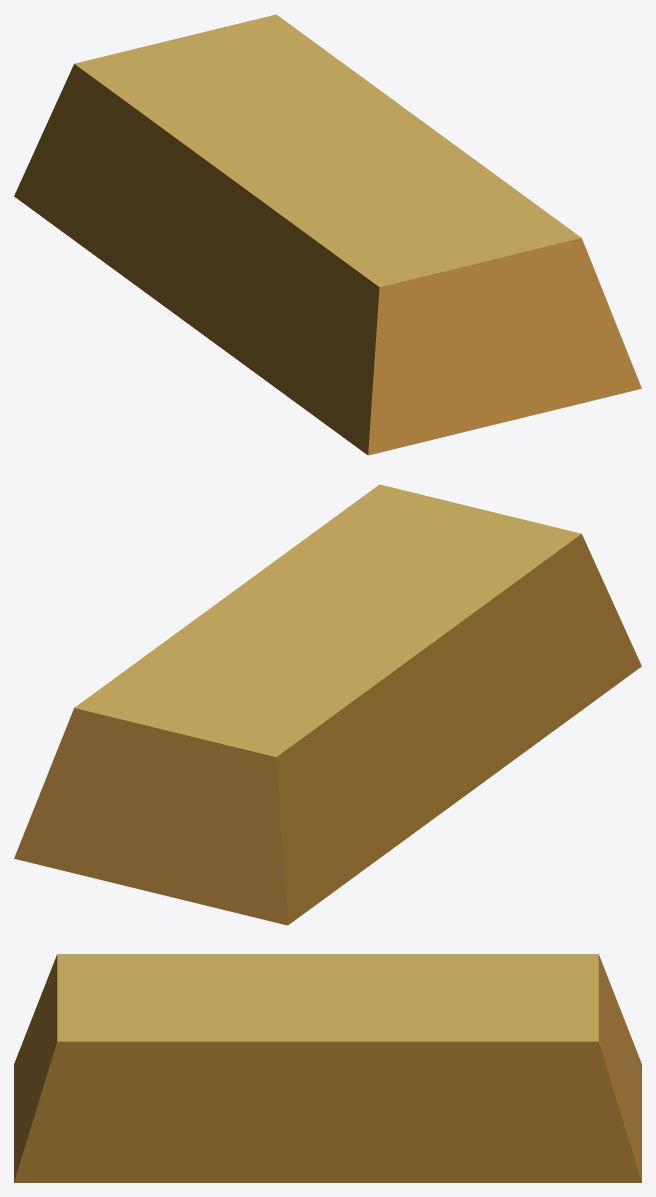
File: SF_Prop_GoldBar_01.fbx
3 views of the same model, one above another, from view 1: azimuth 30°, elevation 25°; view 2: azimuth 150°, elevation 25°; view 3: azimuth 270°, elevation 25° (orthographic). The views are drawn at different scales.
Visible parts, largest first — view 1: SF_Prop_GoldBar_01; view 2: SF_Prop_GoldBar_01; view 3: SF_Prop_GoldBar_01.
Part boxes in pixels (x1,y1,x2,y2): SF_Prop_GoldBar_01: [14, 14, 641, 455]; SF_Prop_GoldBar_01: [14, 484, 641, 925]; SF_Prop_GoldBar_01: [14, 954, 641, 1182].
Bounding box in the file's own units: 0.3137 × 0.1551 × 0.7024.
